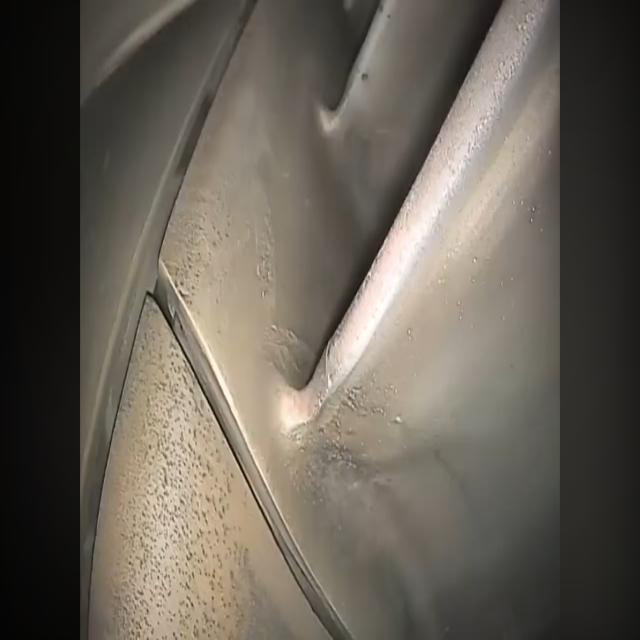turbine_blade: (287, 0, 561, 639), (328, 1, 497, 232)
